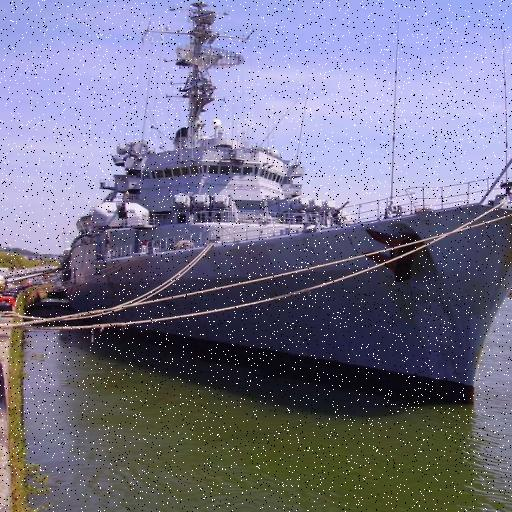Portanaves: (60, 1, 512, 409)
